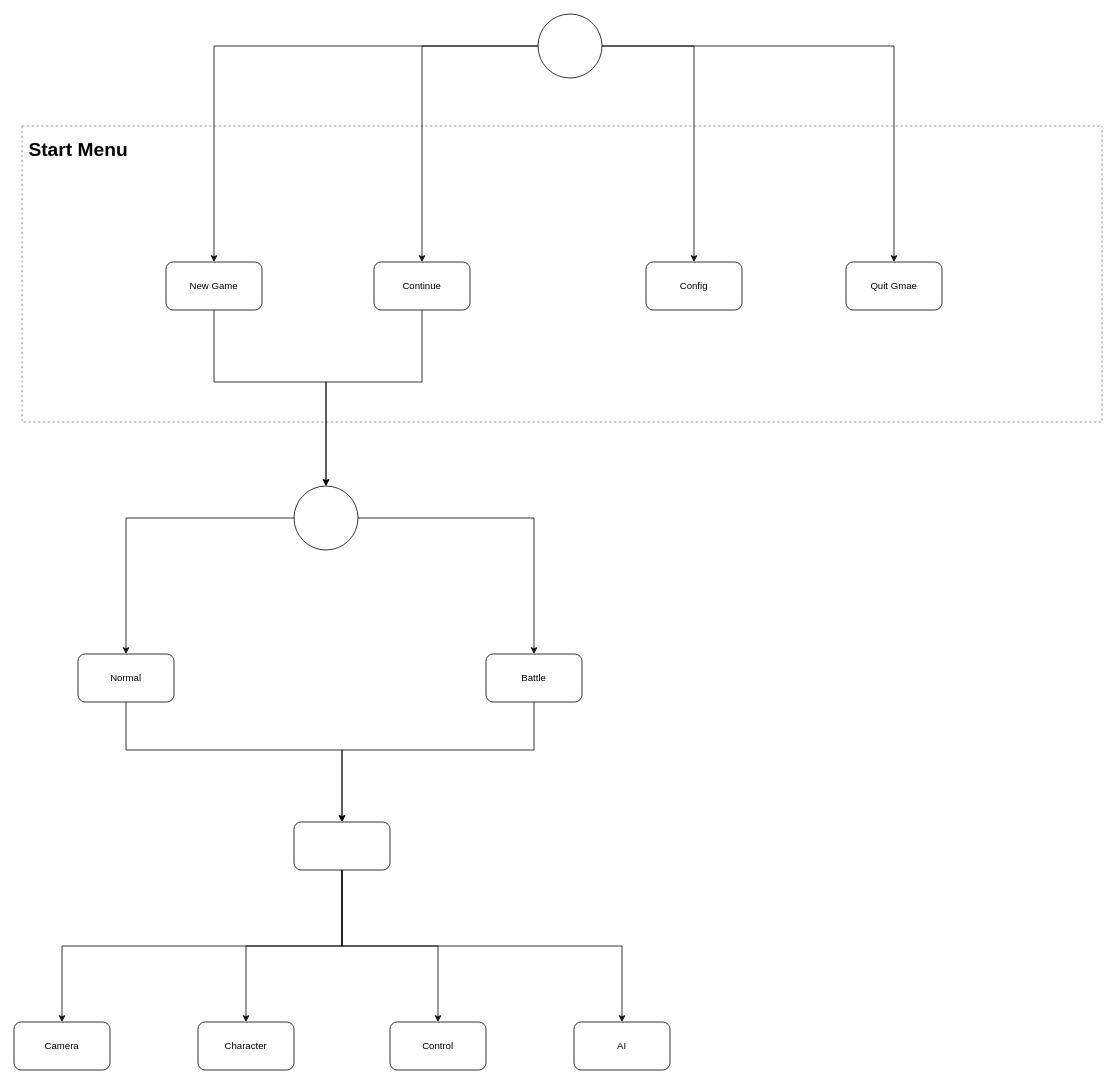
Image size: 1116x1084. Some labels were removed from this diagram. The shapes that lost their labels are listed below. From the top down, each one's centre as x and y in pixels, then its label:
At pixel 569 45: "Start Game".
At pixel 325 517: "Ingame".
At pixel 341 845: "Common".
